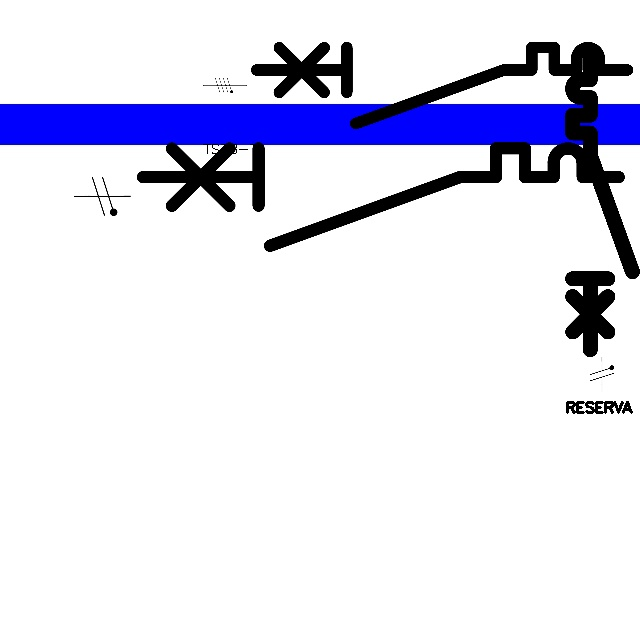interruptor_termomagnetico: (130, 136, 630, 258), (247, 38, 637, 133), (565, 50, 640, 357)
